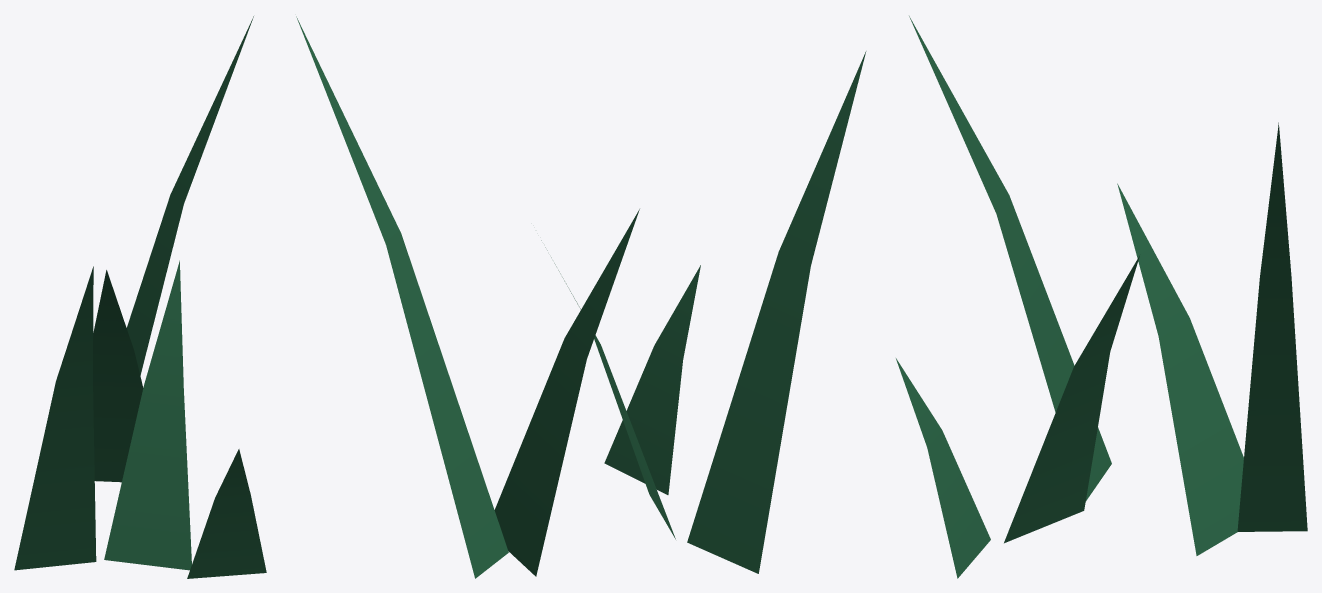
File: grass_tuft.glb
The picture shows the model from 3 angles, left to right: view 1: azimuth 30°, elevation 25°; view 2: azimuth 150°, elevation 25°; view 3: azimuth 270°, elevation 25°; orthographic projection. The views are drawn at different scales.
Parts seen in each view (by area): view 1: grass_tuft; view 2: grass_tuft; view 3: grass_tuft.
Part boxes in pixels (x1,y1,x2,y2): grass_tuft: (14, 16, 266, 578); grass_tuft: (296, 16, 866, 578); grass_tuft: (896, 16, 1307, 578).
Size of the model in its own units: 0.2265 by 0.2993 by 0.2119.
